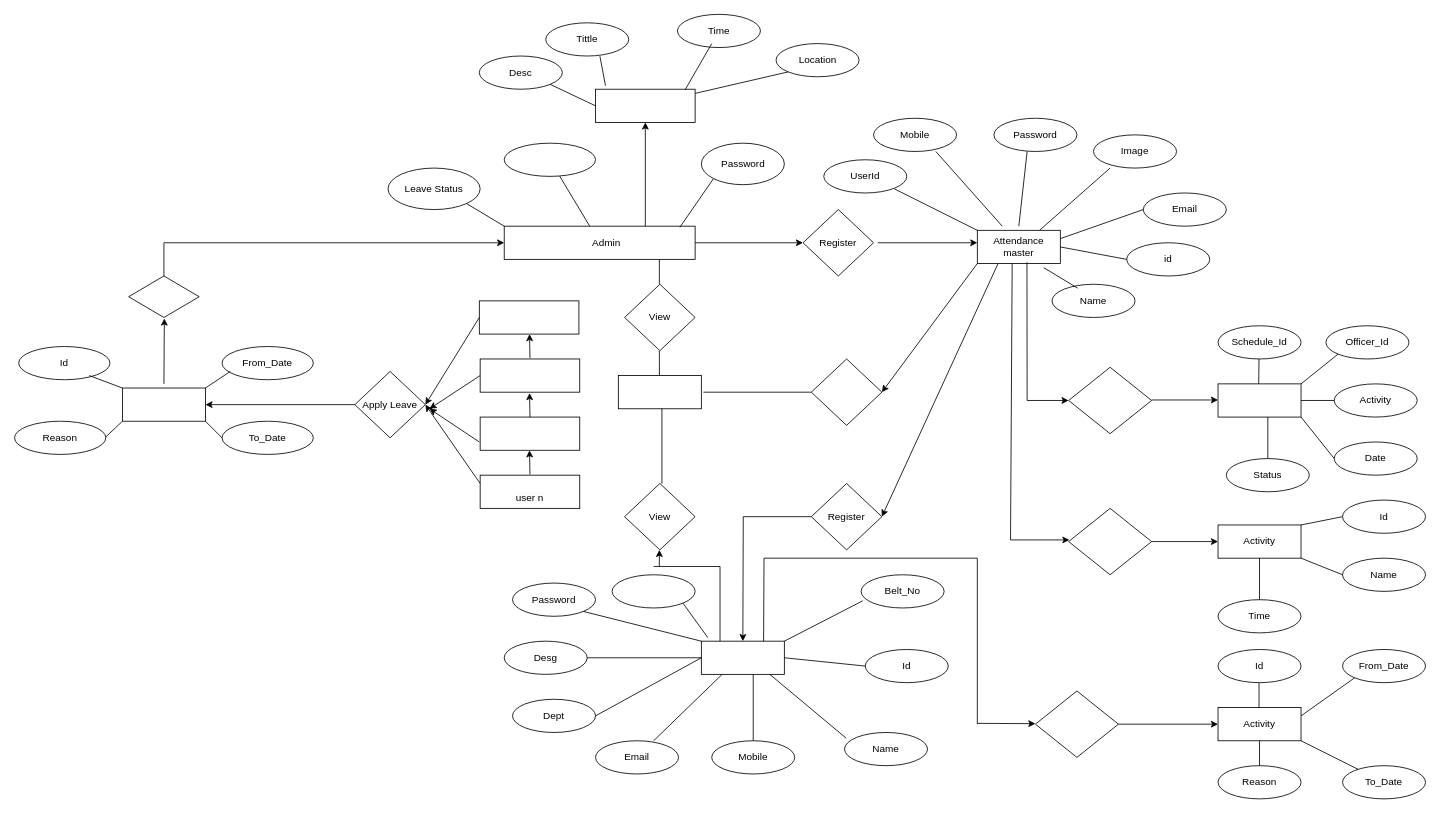
This 1440x814 diagram has some shape labels left out. The centre of each missing label's shape, as x and y in pixels:
Add Activity: the point at 1110,541
Apply for Leave: the point at 1076,723
Duty Schedule: the point at 1110,400
Emergency meet: the point at 645,105
Generate: the point at 846,391
Leave: the point at 163,404
Policemen: the point at 742,657
Schedule: the point at 1259,400
Schedule Report: the point at 659,392
user 1: the point at 528,317
user 2: the point at 529,375
user 3: the point at 529,433
User_Id: the point at 653,591
Username: the point at 549,159
View Leave: the point at 163,296
